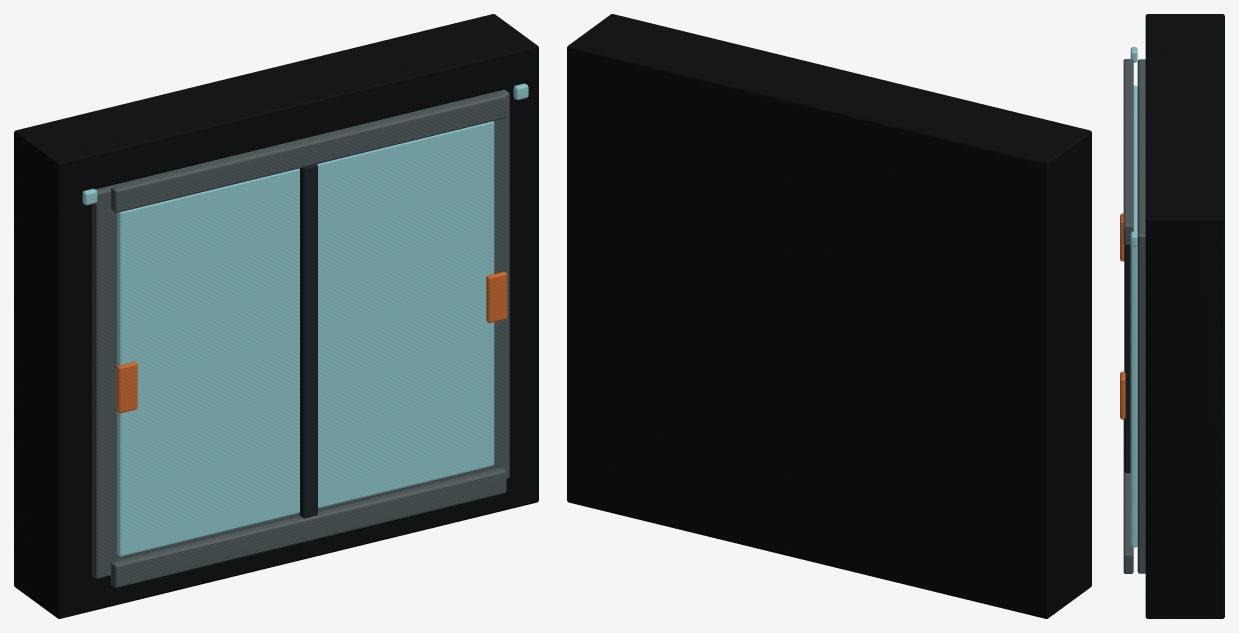
Rendered from ObservationWindow.glb.
3 views of the same model, side by side, from view 1: azimuth 30°, elevation 25°; view 2: azimuth 150°, elevation 25°; view 3: azimuth 270°, elevation 25° (orthographic). The views are drawn at different scales.
Visible parts, largest first — view 1: ObservationWindow_Mesh; view 2: ObservationWindow_Mesh; view 3: ObservationWindow_Mesh.
Part boxes in pixels (x1=…): ObservationWindow_Mesh: x1=14, y1=14, x2=538, y2=618; ObservationWindow_Mesh: x1=567, y1=14, x2=1091, y2=618; ObservationWindow_Mesh: x1=1120, y1=14, x2=1224, y2=618.
Size of the model in its own units: 1.72 by 1.56 by 0.37.
5 materials, 5 textured.
